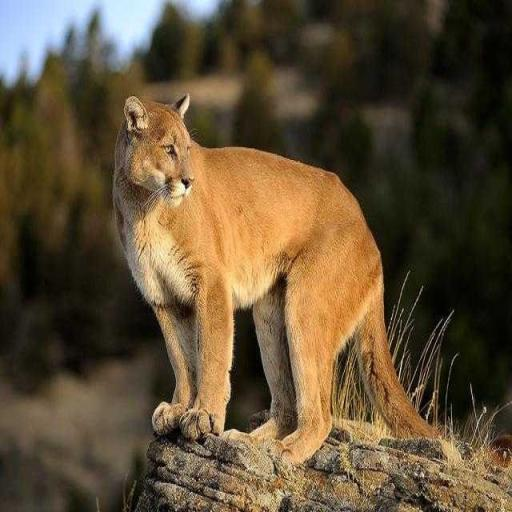Lion: (110, 91, 456, 465)
